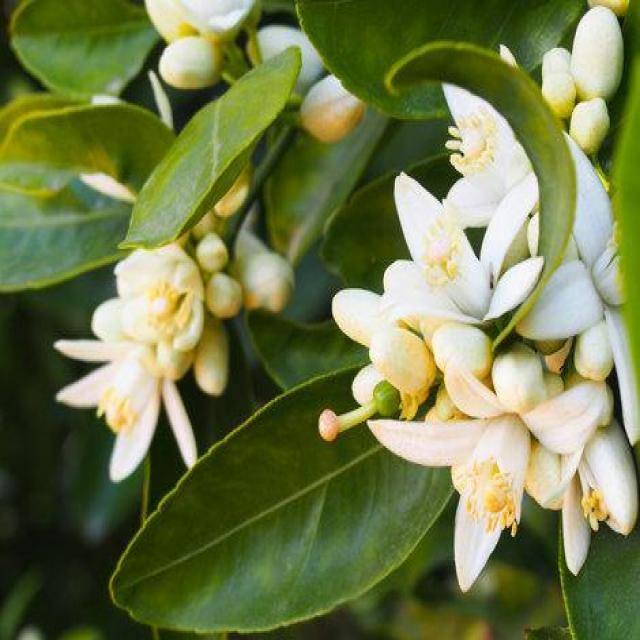Bunga: (366, 361, 595, 588), (527, 132, 640, 430), (380, 171, 548, 311), (49, 334, 199, 487), (426, 66, 534, 222), (540, 438, 612, 574), (116, 250, 202, 352), (582, 419, 638, 534), (573, 7, 624, 103), (366, 325, 433, 395), (298, 74, 365, 142), (151, 0, 255, 43), (433, 325, 496, 377), (159, 37, 222, 89), (332, 291, 390, 345), (195, 319, 233, 396), (246, 250, 292, 310), (569, 96, 610, 150), (540, 73, 578, 114), (206, 272, 240, 316), (540, 48, 572, 82), (196, 242, 227, 268)
